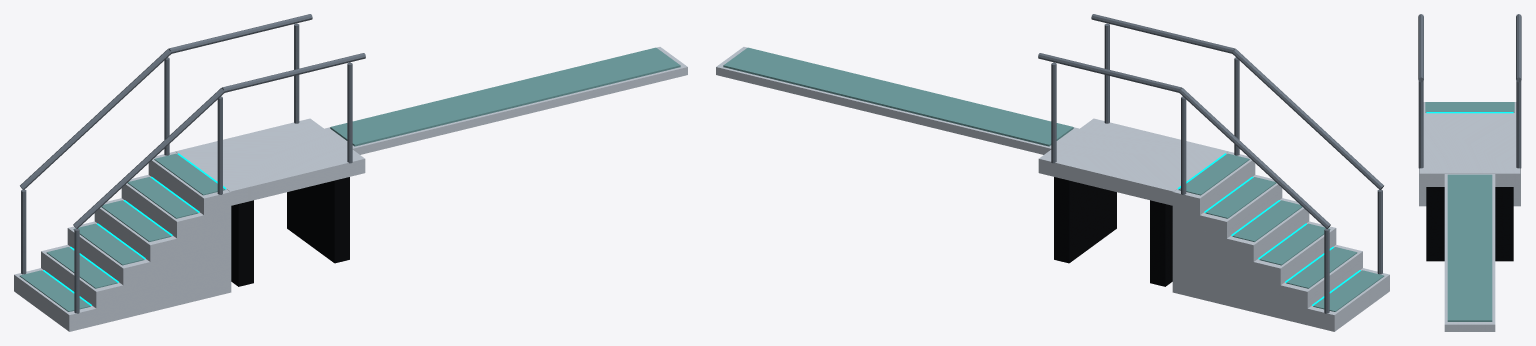
Rendered from tt_pool_board_1m_315.glb.
3 views of the same model, side by side, from view 1: azimuth 30°, elevation 25°; view 2: azimuth 150°, elevation 25°; view 3: azimuth 270°, elevation 25° (orthographic). The views are drawn at different scales.
Visible parts, largest first — view 1: Board_StairTreads, Board_Platform, Board_Nonslip, Board_TreadPad, Board_Supports, Board_Handrail, Board_FlexibleBlade, Board_RailPosts, Board_TreadNosing; view 2: Board_StairTreads, Board_Platform, Board_Nonslip, Board_TreadPad, Board_Supports, Board_Handrail, Board_FlexibleBlade, Board_RailPosts, Board_TreadNosing; view 3: Board_Nonslip, Board_Platform, Board_Supports, Board_FlexibleBlade, Board_RailPosts, Board_TreadPad, Board_Handrail, Board_StairTreads, Board_TreadNosing.
Part boxes in pixels (x1,y1,x2,y2): Board_StairTreads: (14, 151, 231, 331); Board_Platform: (175, 118, 365, 205); Board_Nonslip: (330, 47, 680, 146); Board_TreadPad: (19, 153, 225, 311); Board_Supports: (231, 177, 349, 286); Board_Handrail: (20, 14, 365, 228); Board_FlexibleBlade: (324, 47, 687, 154); Board_RailPosts: (21, 23, 352, 313); Board_TreadNosing: (43, 153, 226, 305); Board_StairTreads: (1172, 151, 1389, 331); Board_Platform: (1038, 118, 1228, 205); Board_Nonslip: (723, 47, 1073, 146); Board_TreadPad: (1178, 153, 1384, 311); Board_Supports: (1054, 177, 1172, 286); Board_Handrail: (1038, 14, 1383, 228); Board_FlexibleBlade: (716, 47, 1079, 154); Board_RailPosts: (1051, 23, 1382, 313); Board_TreadNosing: (1177, 153, 1360, 305); Board_Nonslip: (1447, 174, 1492, 321); Board_Platform: (1419, 113, 1520, 186); Board_Supports: (1426, 187, 1513, 261); Board_FlexibleBlade: (1444, 174, 1495, 331); Board_RailPosts: (1418, 81, 1521, 168); Board_TreadPad: (1425, 102, 1514, 112); Board_Handrail: (1418, 14, 1521, 82); Board_StairTreads: (1419, 102, 1520, 206); Board_TreadNosing: (1426, 112, 1513, 113).
Size of what is drawn, in the model's own units: 6.58 by 2.05 by 1.02.
5 materials, 3 textured.
